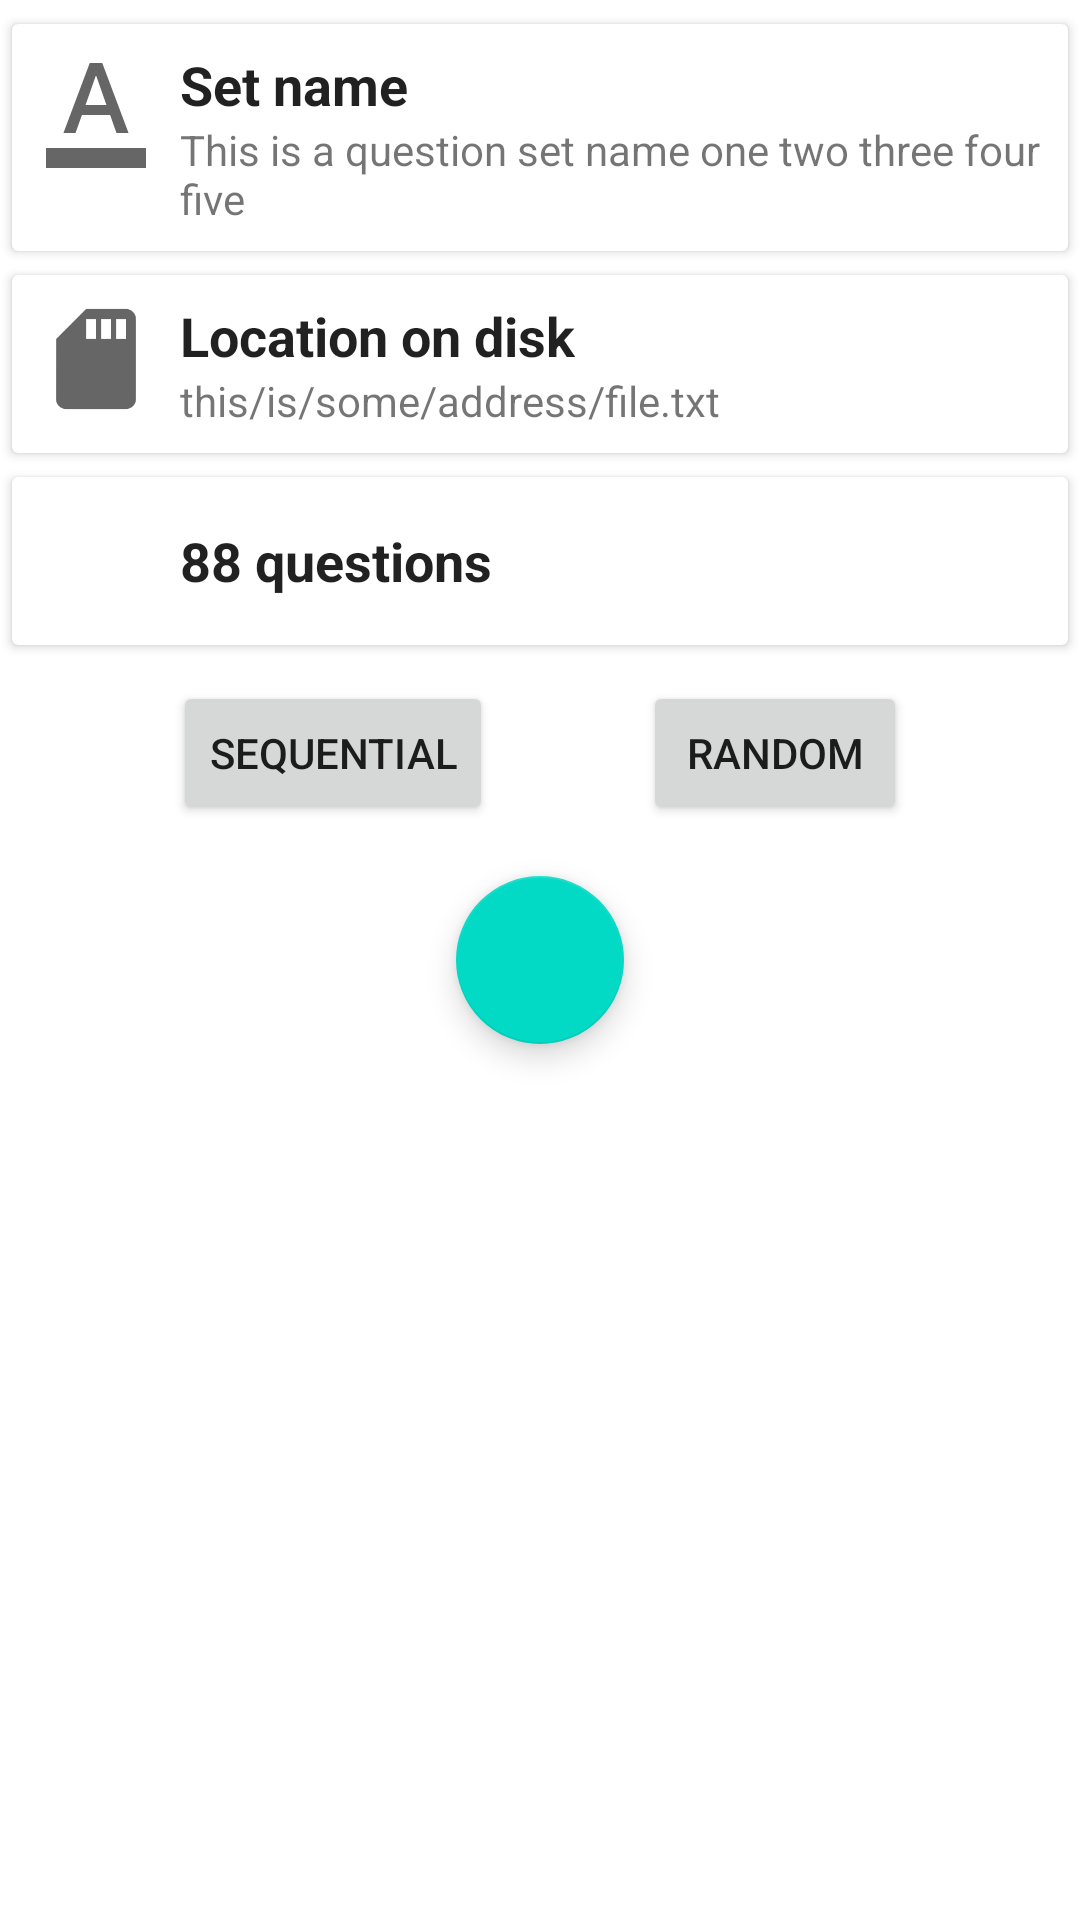

Where icons sit on this 1080×1920 app screen, as (x1, y1, x2, y2):
sd storage: (56, 309, 136, 409)
